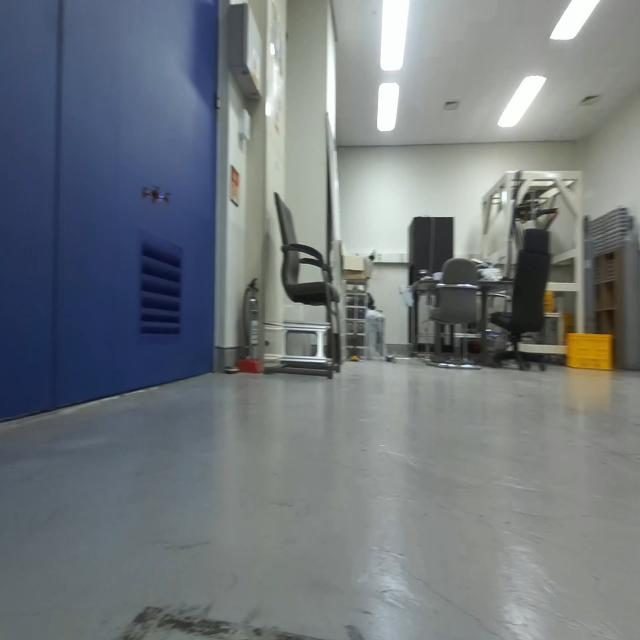crazyflie: (138, 176, 174, 212)
